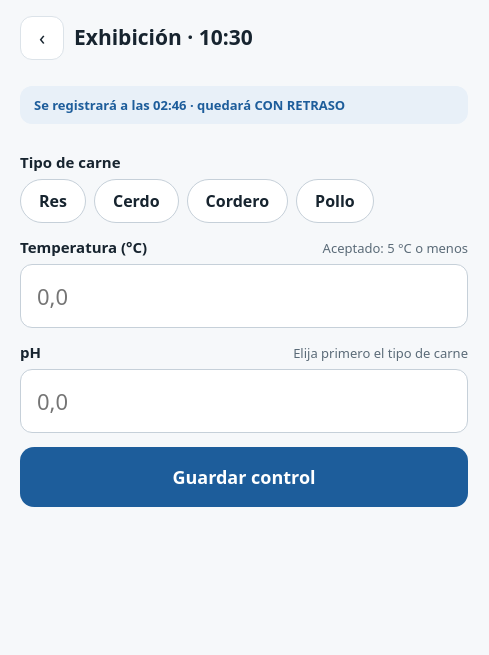
Test case: control de exhibición › enumera lo que falta en lugar de fallar sin explicación
The width and height of the screenshot is (489, 655).
Click the button "Guardar control" at (244, 477), box [20,447,468,507]
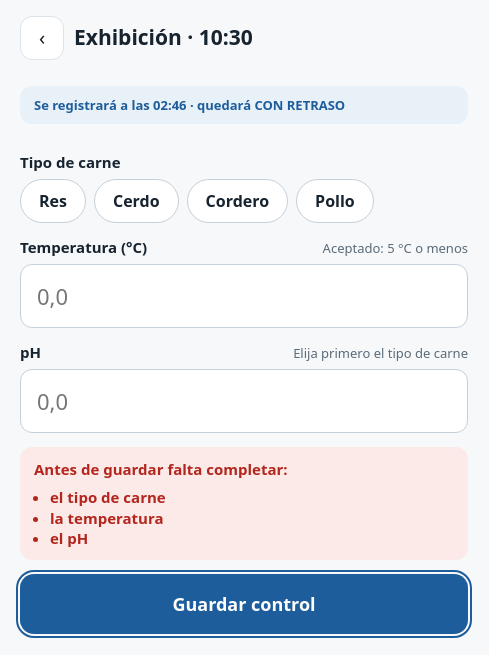
Check: the text "Antes de guardar falta completar:" is shown, box [34,459,288,479]
Check: the list item "el tipo de carne" is shown, box [50,487,166,507]
Check: the list item "la temperatura" is shown, box [50,508,164,528]
